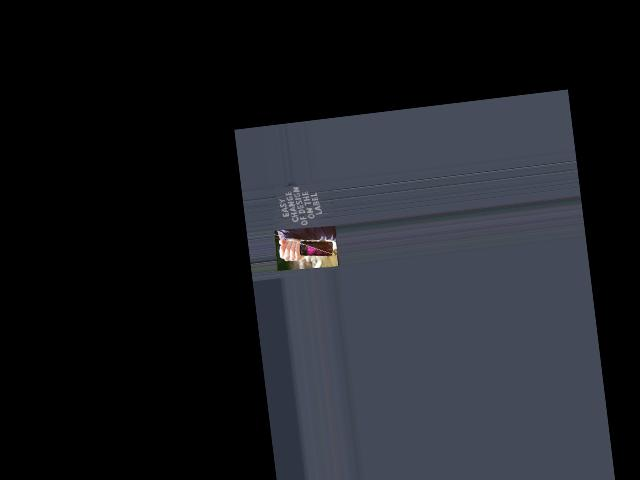beer: (277, 237, 334, 261)
